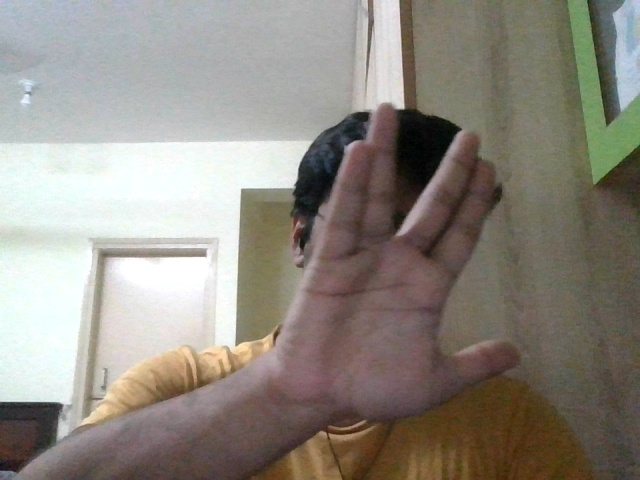livelong: (285, 103, 521, 420)
